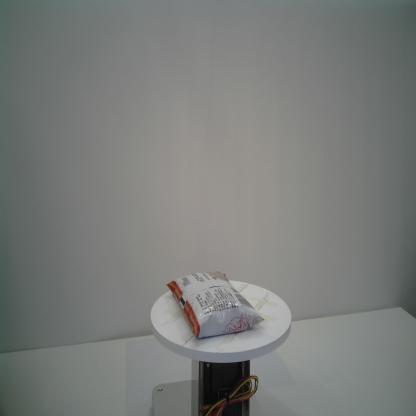Seasoner: (163, 268, 265, 346)
